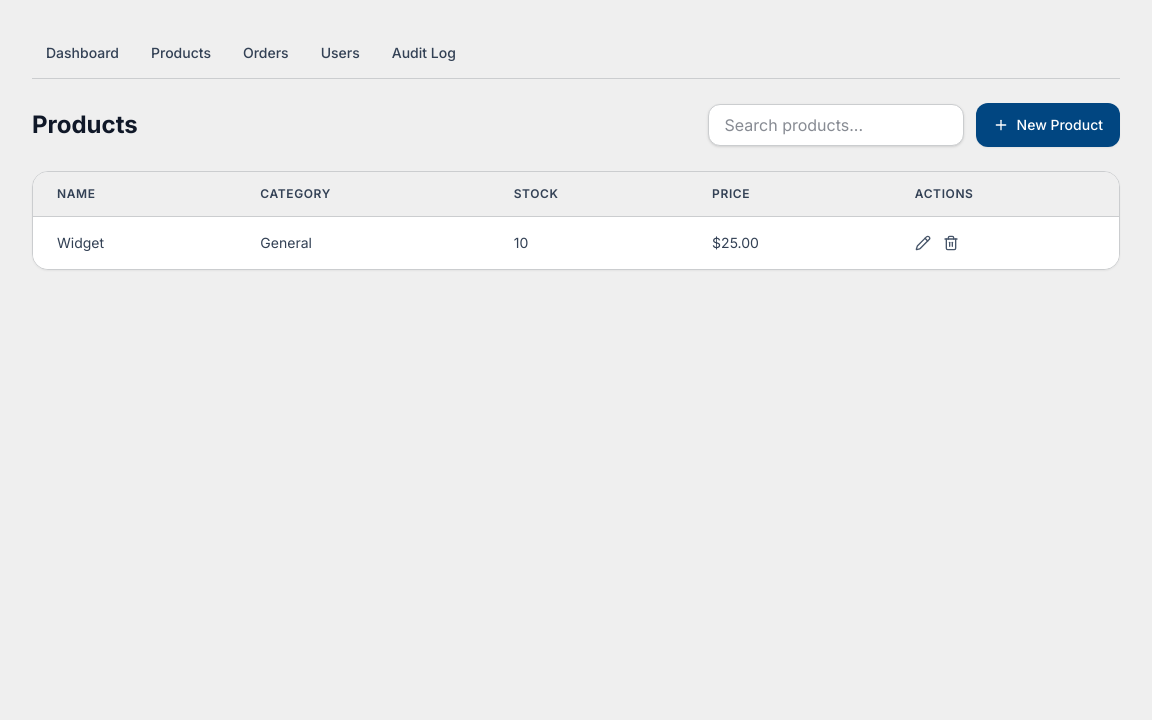
Test: ProductsAdmin › opens the form modal when the New Product button is clicked
Expected: the text "Widget" is shown, [33,216,236,269]
Click the button "New Product": [1048, 125] box [976,103,1120,147]
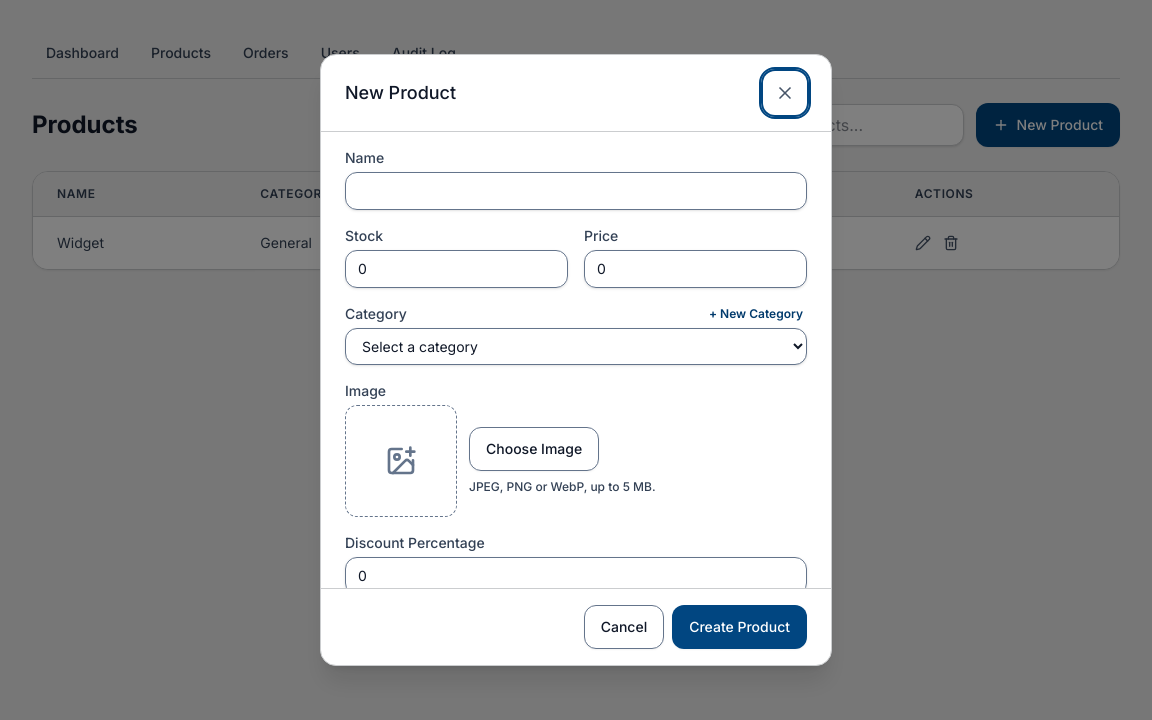
Expected: the heading "New Product" is shown, [345,79,456,107]
